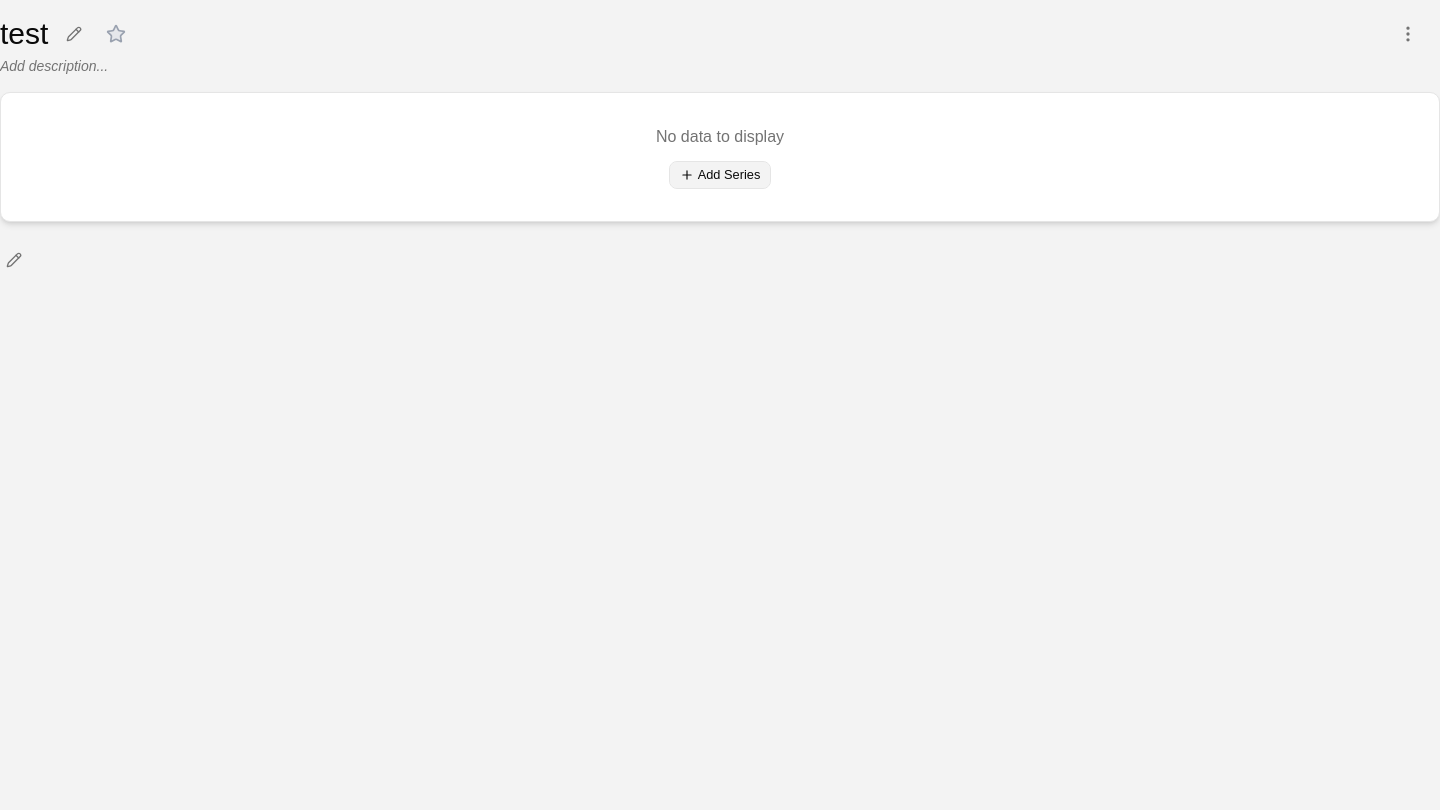
TrackerDetailView › shows error when adding a series fails
Click the button named "tracker menu".
click(1408, 34)  # box [1392,18,1424,50]
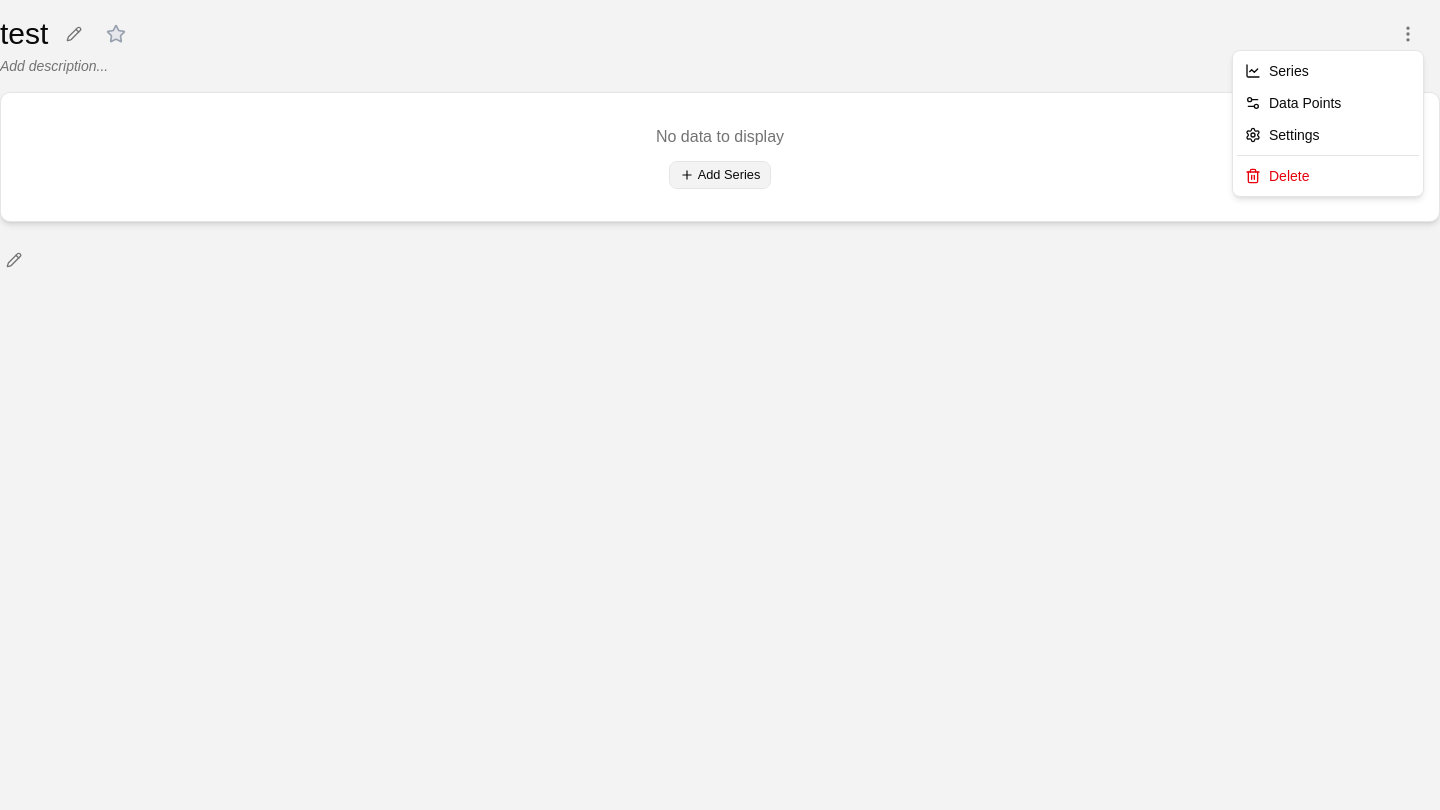
Click the menu item "Series".
click(1277, 71)  # box [1245,63,1309,79]
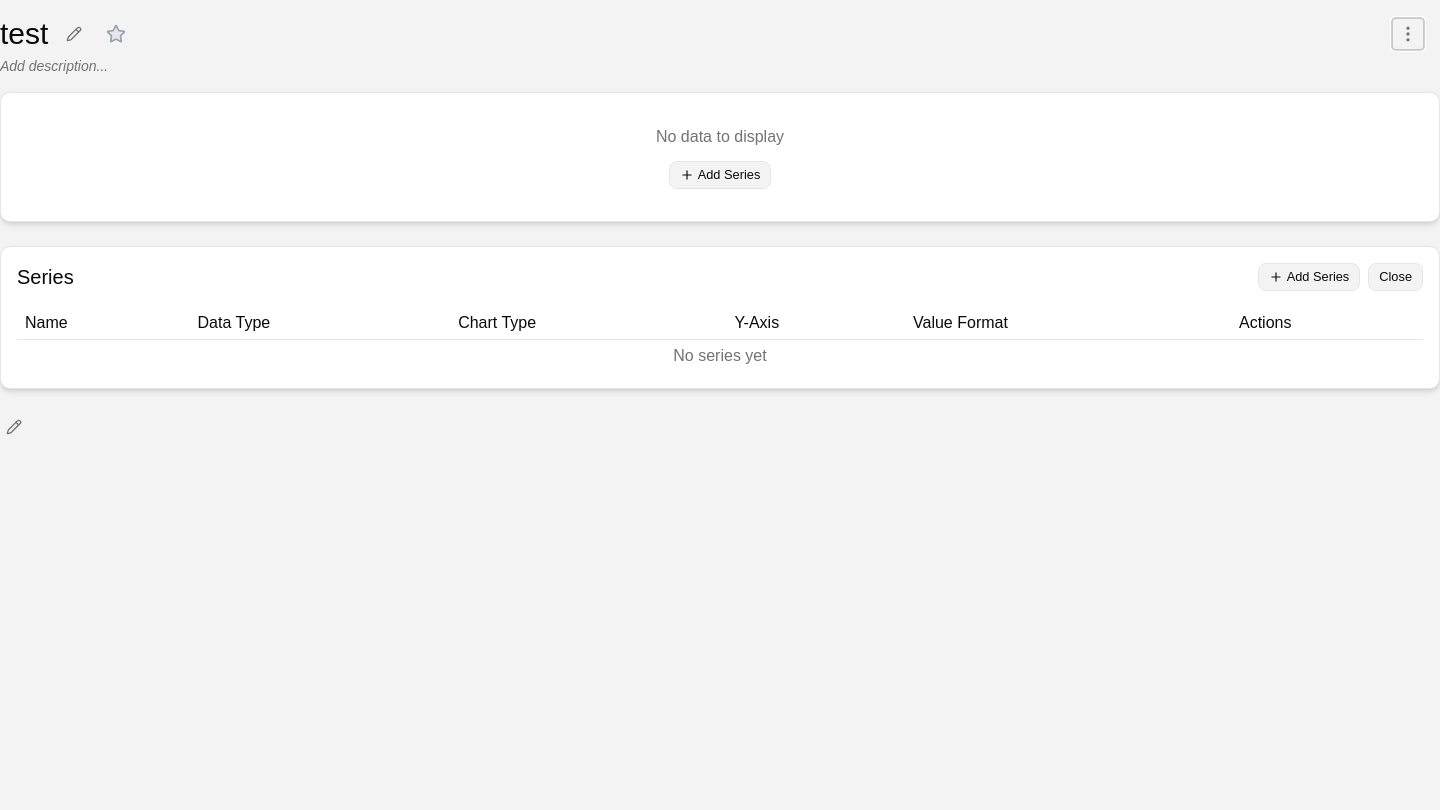
Click the 2nd button "Add Series".
click(1309, 277)  # box [1258,263,1360,291]
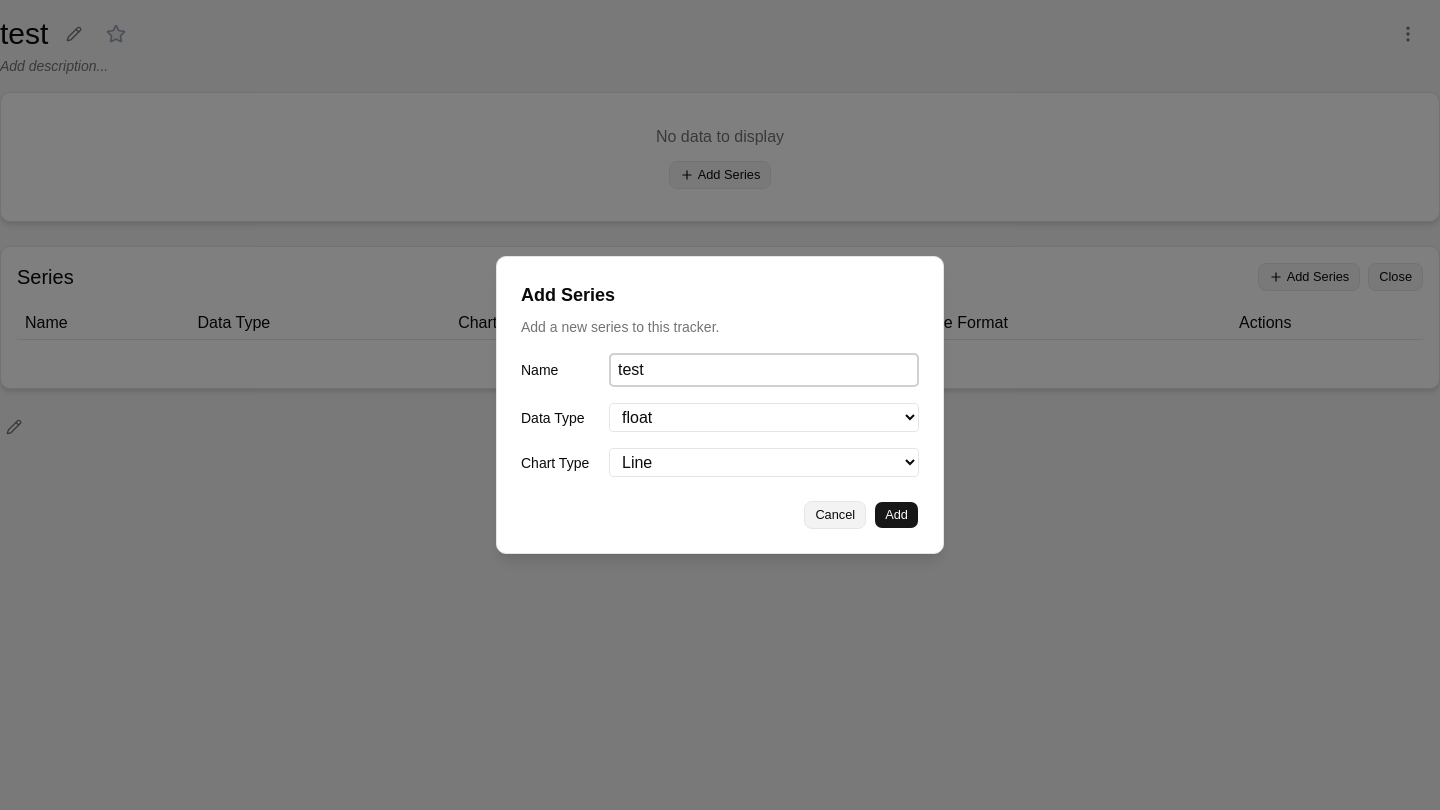
Type "fail-series" into the field with placeholder "Series name".
click(764, 370); type("fail-series")  # box [609,353,919,387]
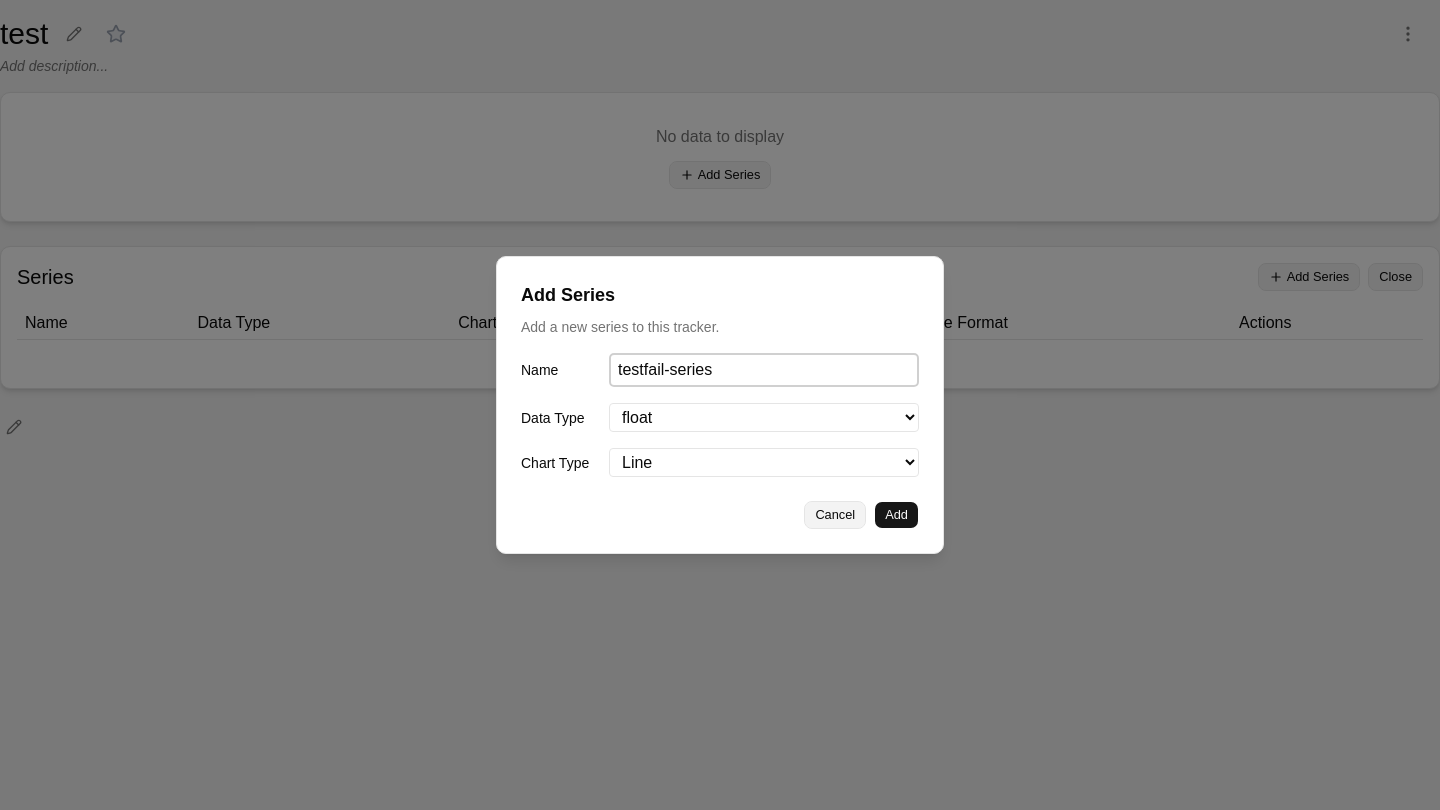
Click the button "Add".
click(897, 515)  # box [874,501,919,529]
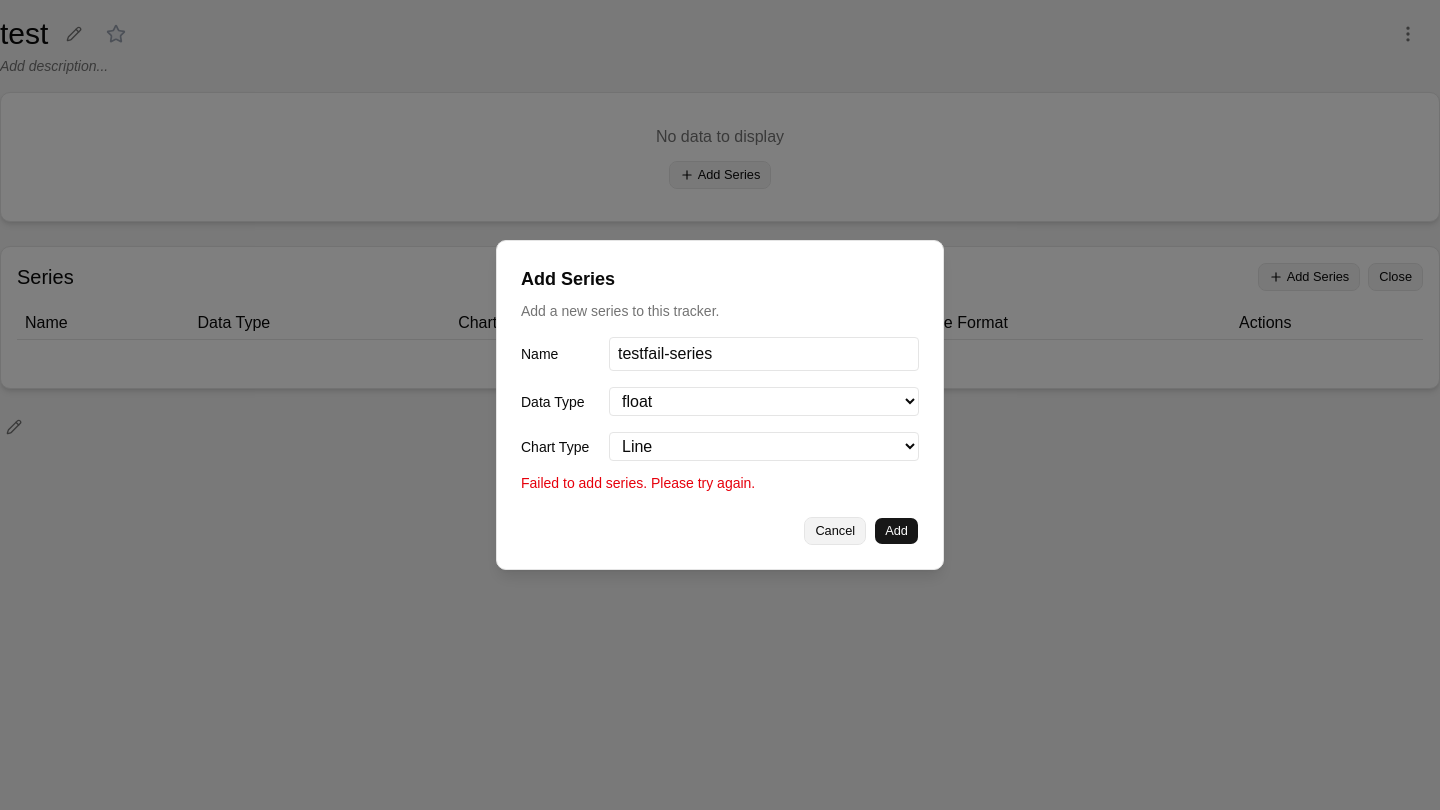
expect the dialog is shown: met, box [496,240,944,570]
expect the text "Failed to add series. Please try again." is shown: met, box [521,475,755,491]
